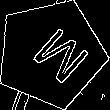M_SW: (16, 19, 85, 88)
